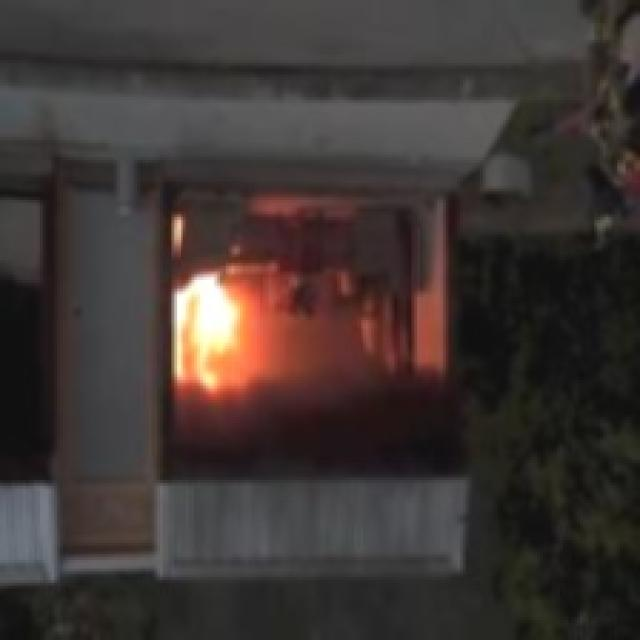fire: (157, 268, 254, 423)
